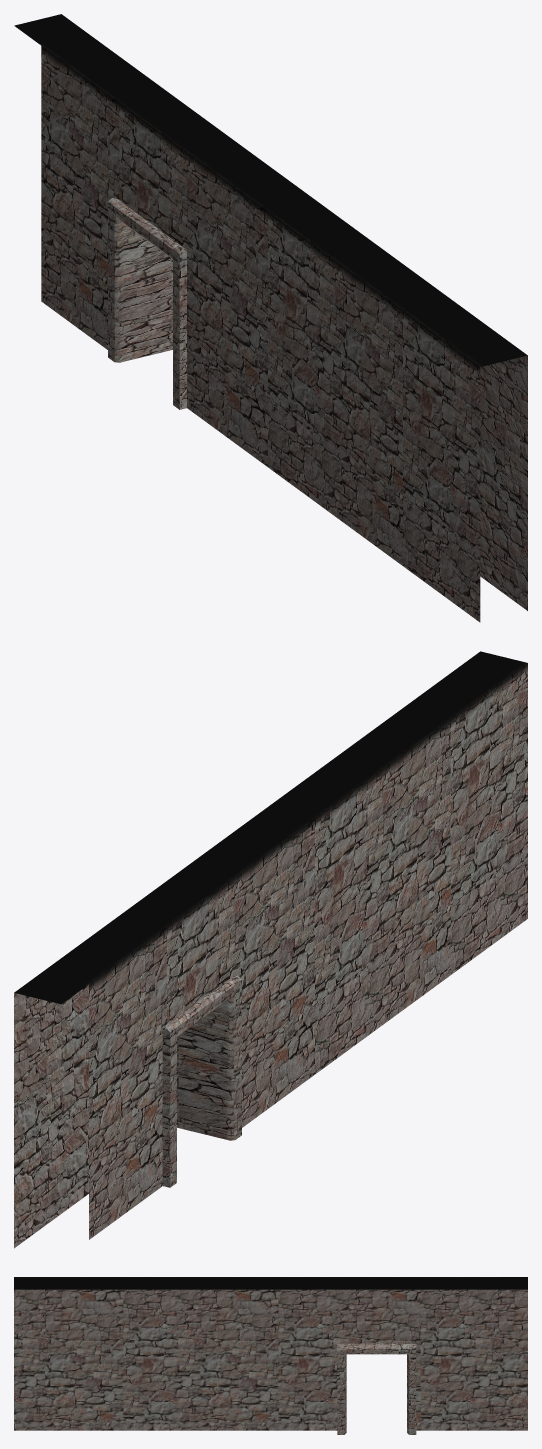
File: basementRoomWallFront.fbx
The picture shows the model from 3 angles, top to bottom: view 1: azimuth 30°, elevation 25°; view 2: azimuth 150°, elevation 25°; view 3: azimuth 270°, elevation 25°; orthographic projection. The views are drawn at different scales.
Parts seen in each view (by area): view 1: basementRoomWallFront; view 2: basementRoomWallFront; view 3: basementRoomWallFront.
Part boxes in pixels (x1,y1,x2,y2): basementRoomWallFront: (14, 14, 527, 622); basementRoomWallFront: (14, 651, 527, 1248); basementRoomWallFront: (14, 1277, 527, 1434).
Bounding box in the file's own units: 104 × 360 × 1190.
